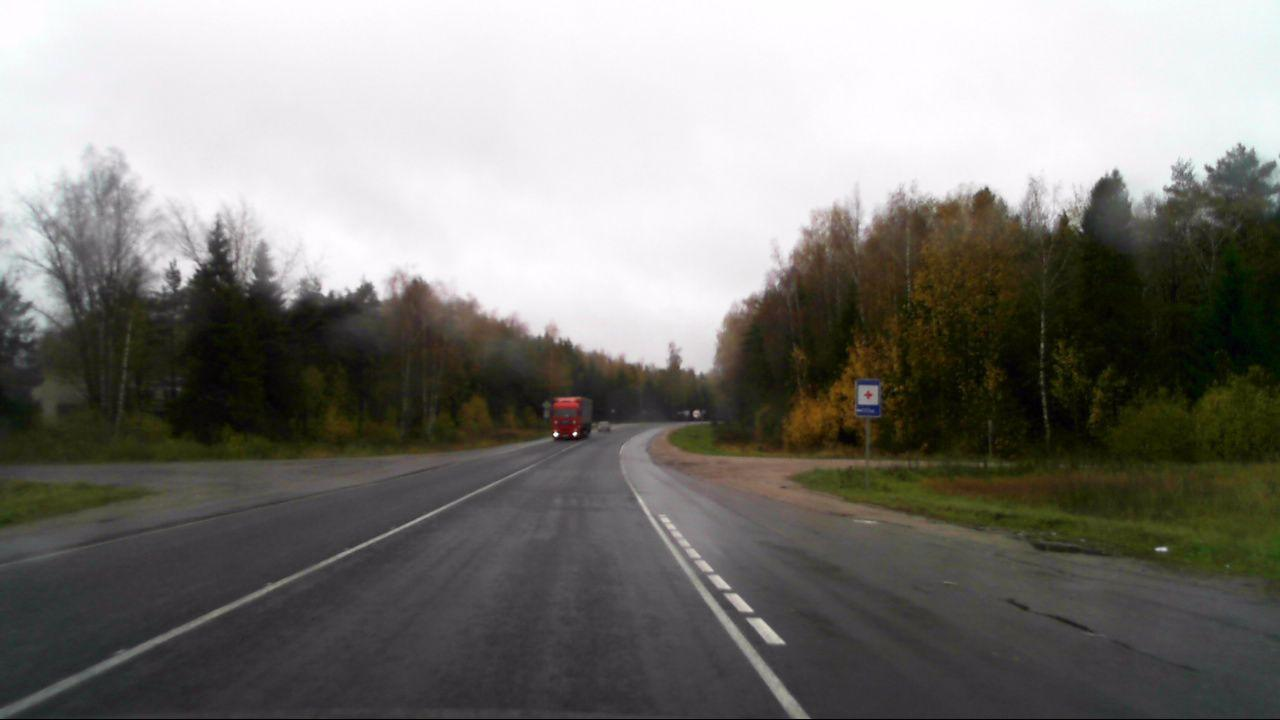7_1: (855, 382, 879, 417)
